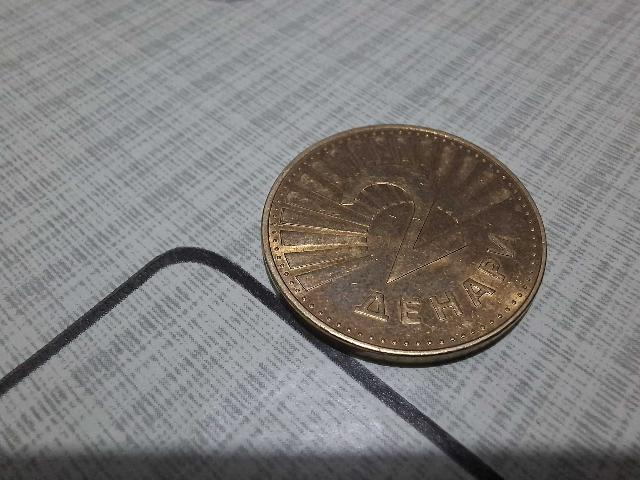2_coin: (262, 125, 546, 363)
